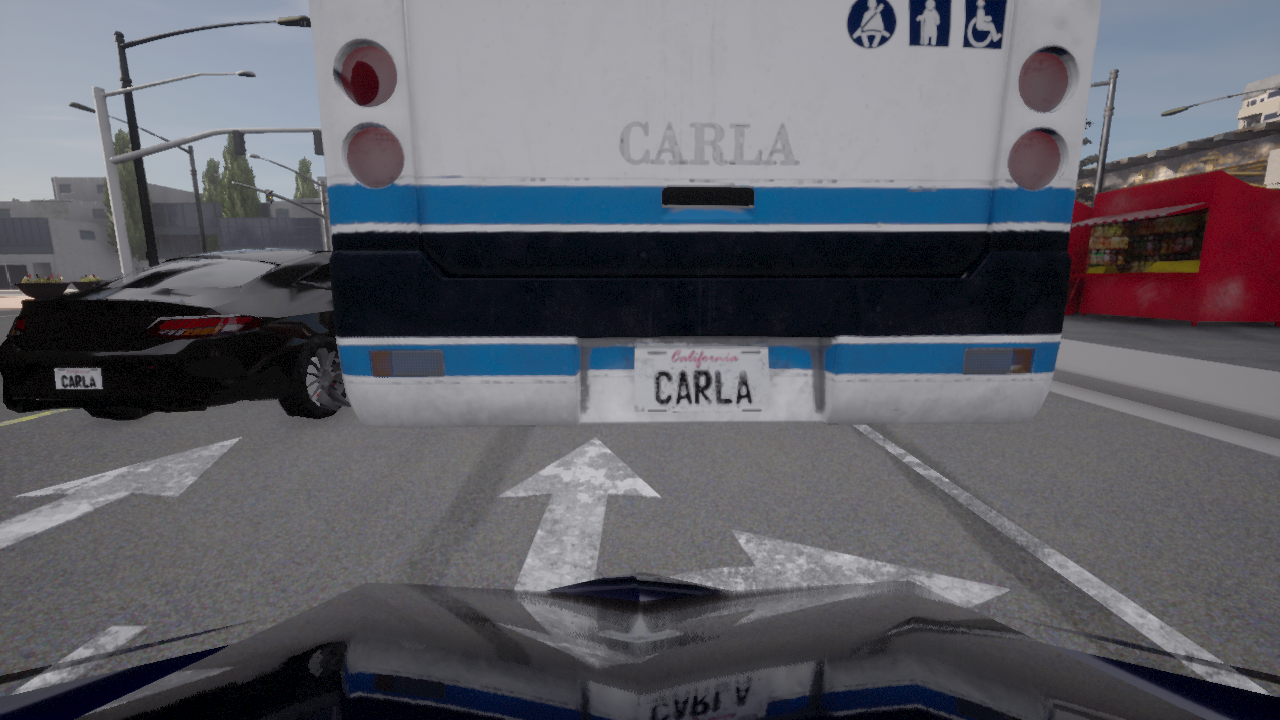cyclist: (309, 0, 1101, 426), (0, 569, 1279, 719), (0, 247, 351, 419)
pedestrian: (84, 274, 87, 277)
